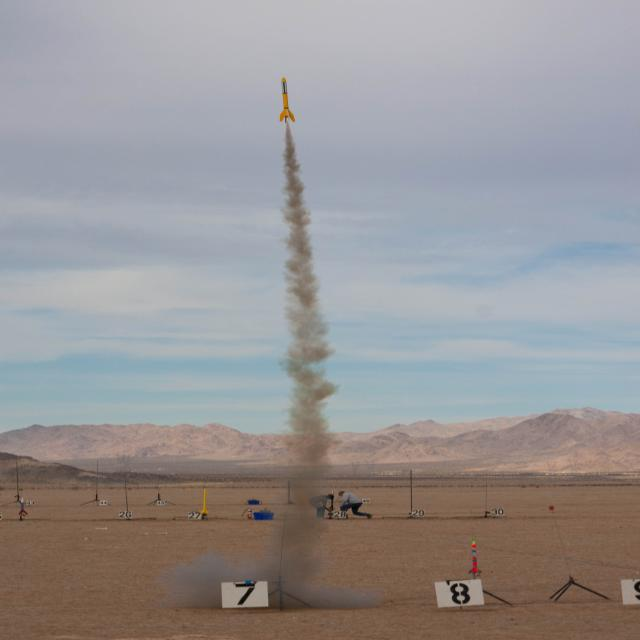Rocket: (278, 76, 297, 124), (468, 537, 482, 574), (200, 487, 209, 514), (328, 489, 336, 512), (19, 498, 29, 516)
